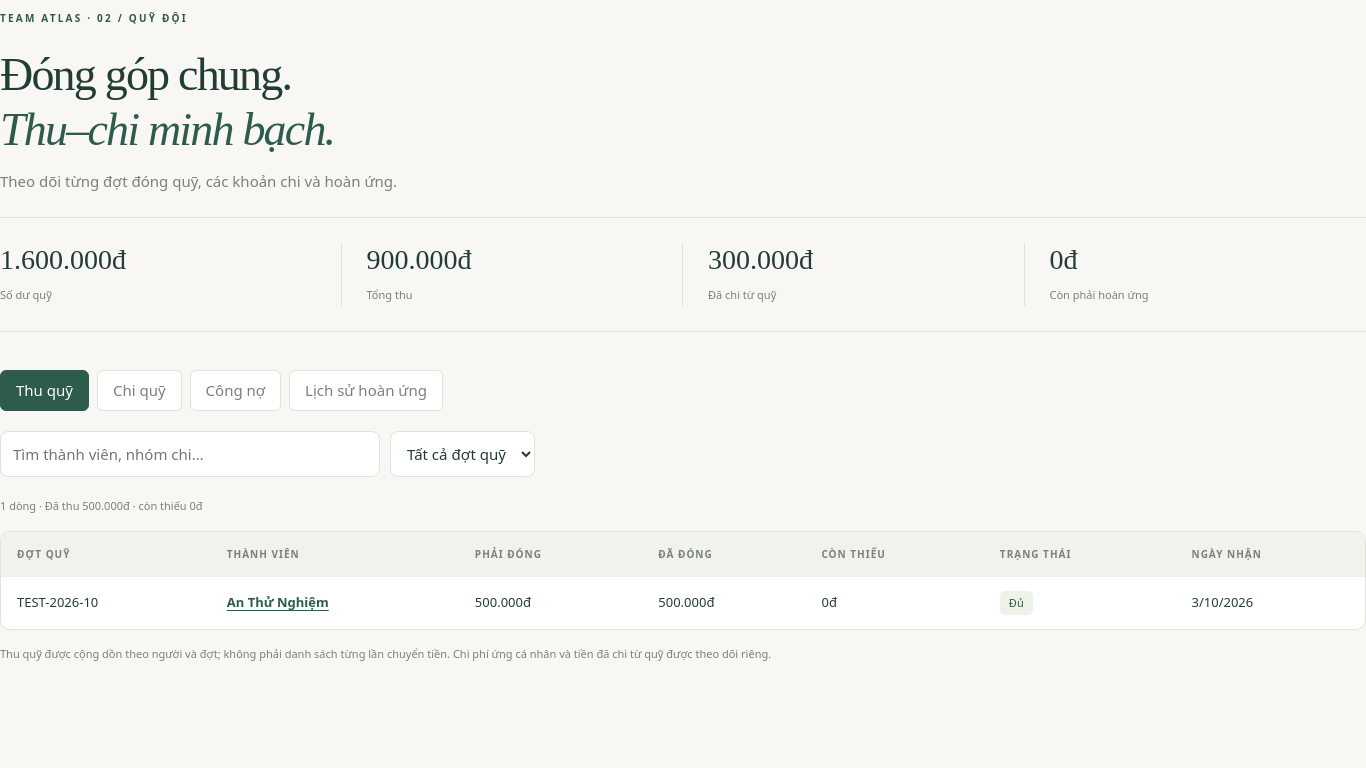
Test: FinancePage › opens the shared member dialog from a member link and closes it by button or Escape
Click the button "An Thử Nghiệm".
click(278, 603)  # box [227,592,329,614]
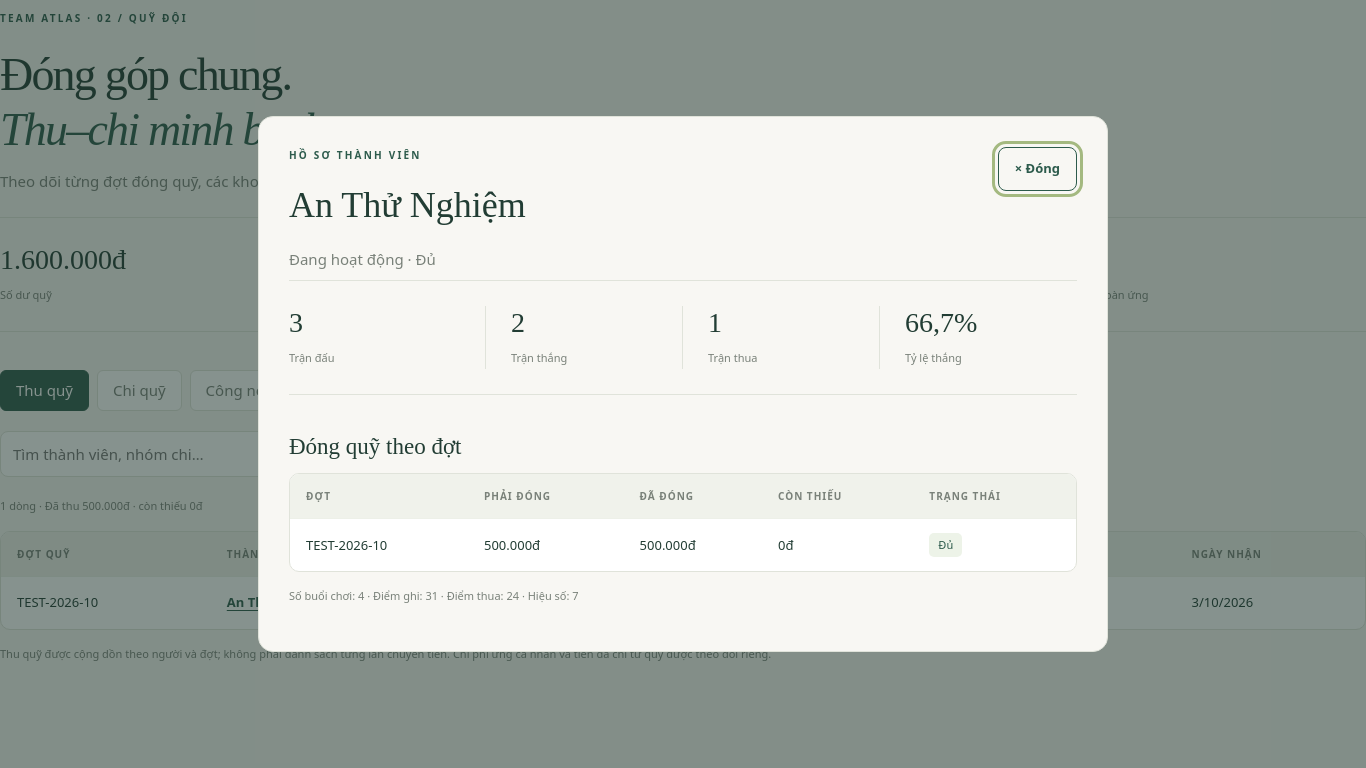
Check: the heading "Đóng quỹ theo đợt" is shown, box [289,434,462,459]
Click the button with aria-label "Đóng hồ sơ".
click(1037, 169)  # box [998,147,1077,191]
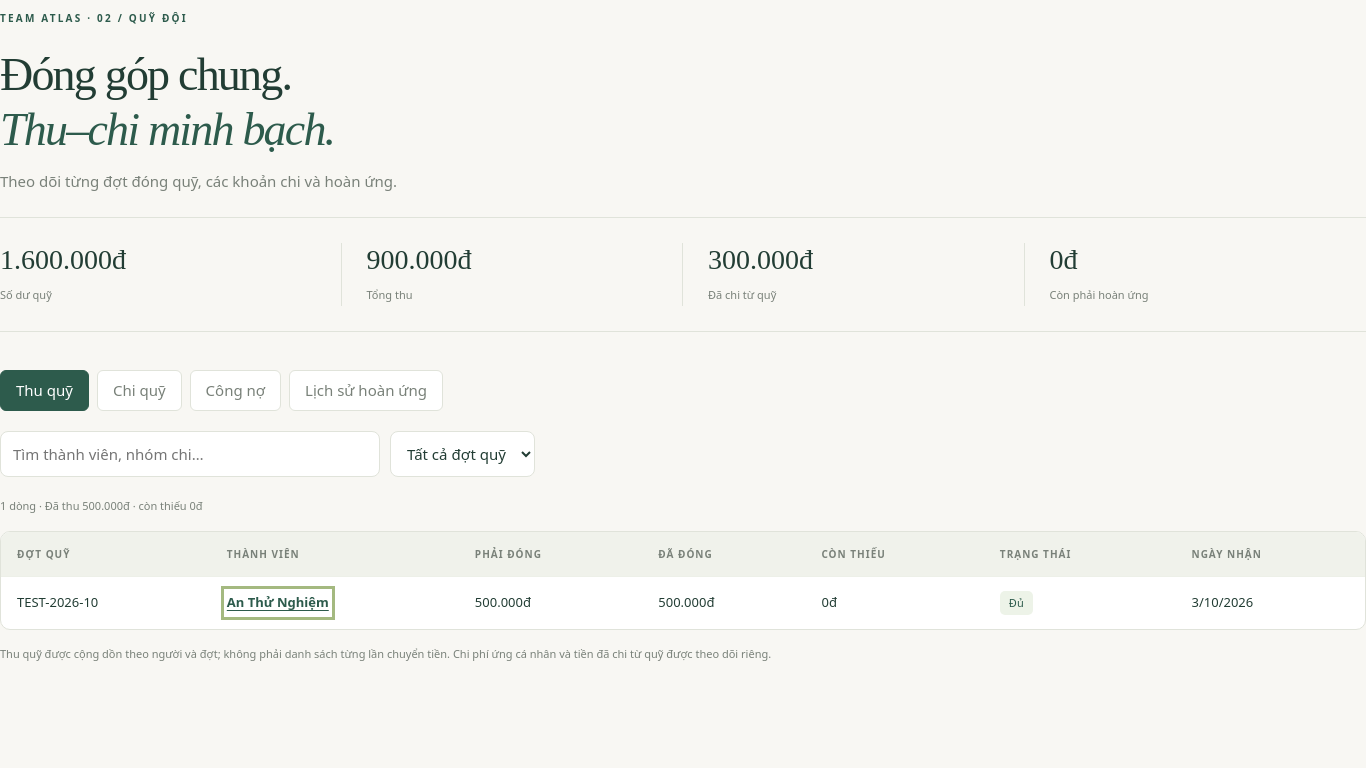
Check: the dialog is gone
Click the button "An Thử Nghiệm".
click(278, 603)  # box [227,592,329,614]
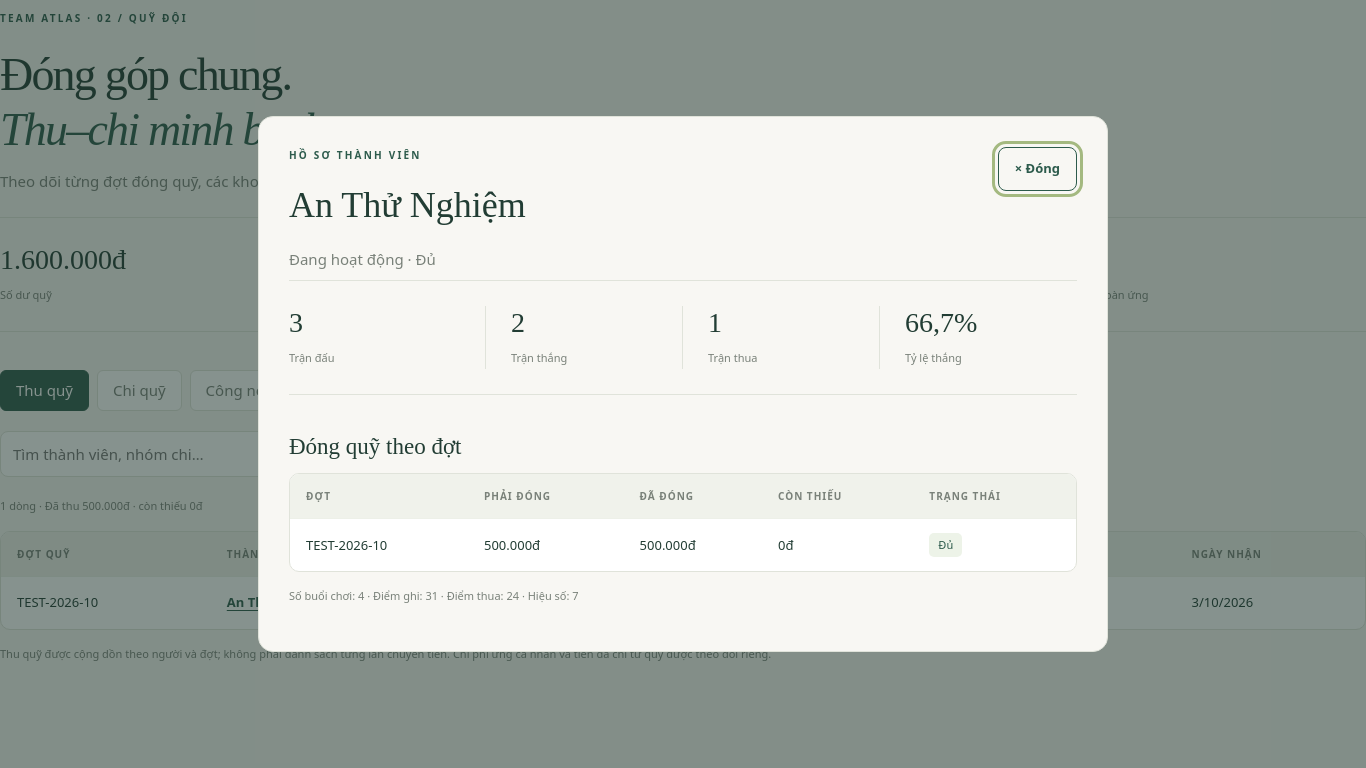
Press Escape in the dialog, box [258,116,1108,652]
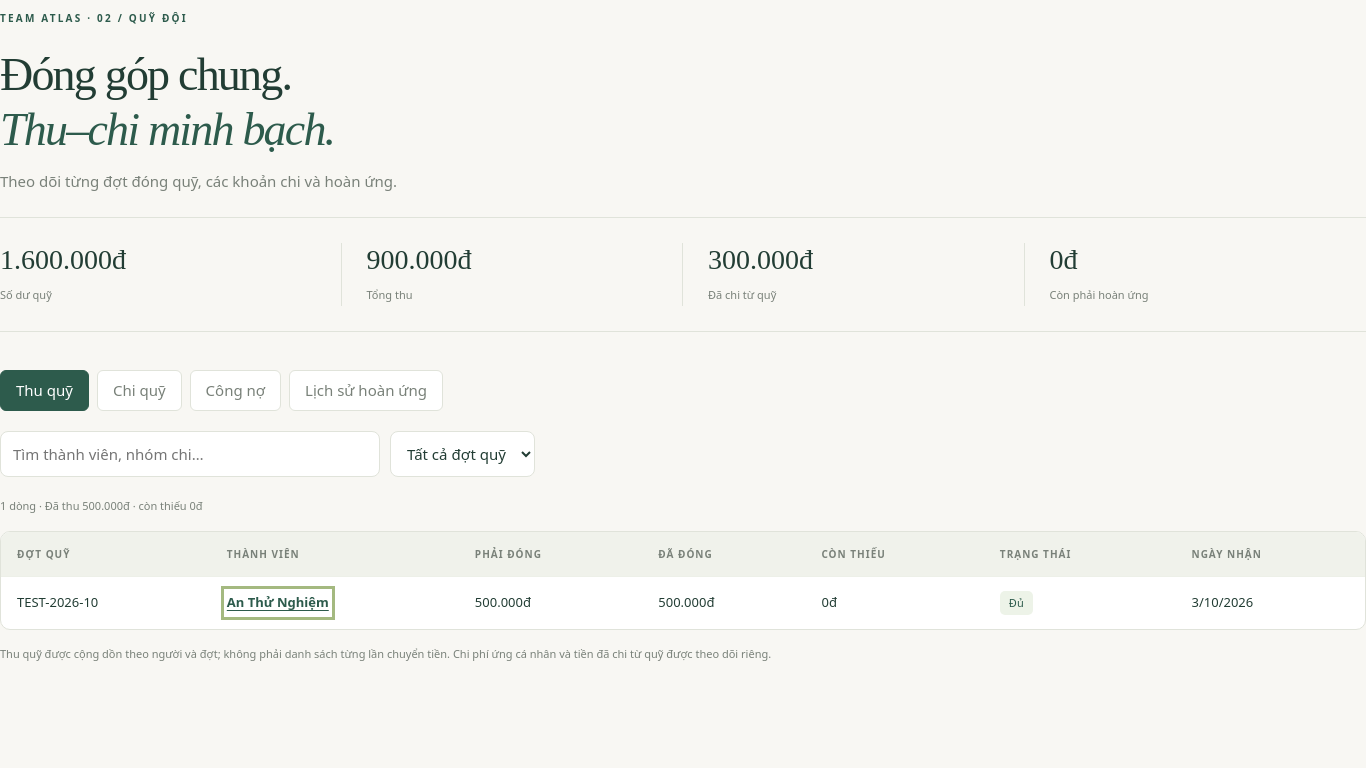
Check: the dialog is gone
